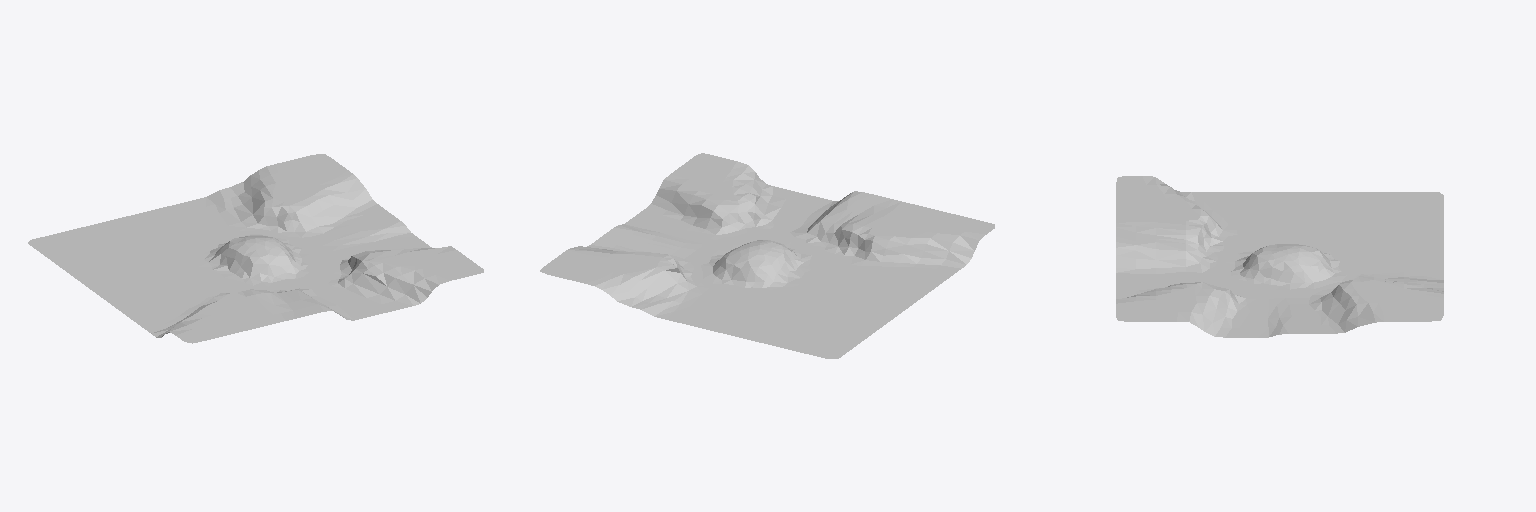
The model's file is IslandTerrain.obj.
3 views of the same model, side by side, from view 1: azimuth 30°, elevation 25°; view 2: azimuth 150°, elevation 25°; view 3: azimuth 270°, elevation 25° (orthographic).
Parts seen in each view (by area): view 1: pPlane1; view 2: pPlane1; view 3: pPlane1.
Boxes of the visible parts, x1=… form: pPlane1: x1=28, y1=154, x2=483, y2=343; pPlane1: x1=540, y1=153, x2=994, y2=358; pPlane1: x1=1116, y1=176, x2=1443, y2=337.
Bounding box in the file's own units: 19.67 × 1.11 × 18.64.